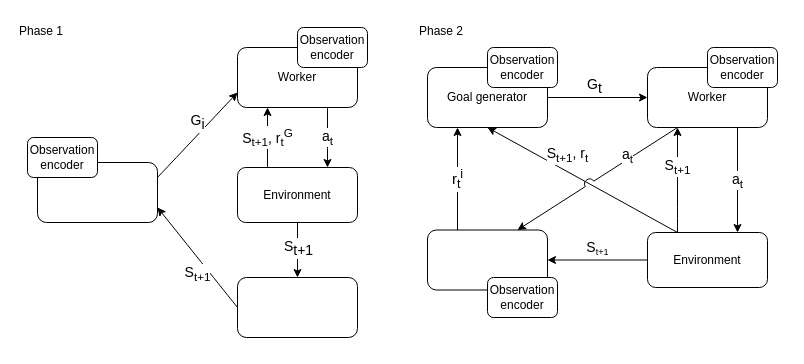
This 804x364 diagram has some shape labels left out. The centre of each missing label's shape, as x and y in pixels:
Exploration module: (x=487, y=259)
Trajectory collector: (x=297, y=307)
Trajectory history: (x=97, y=192)
